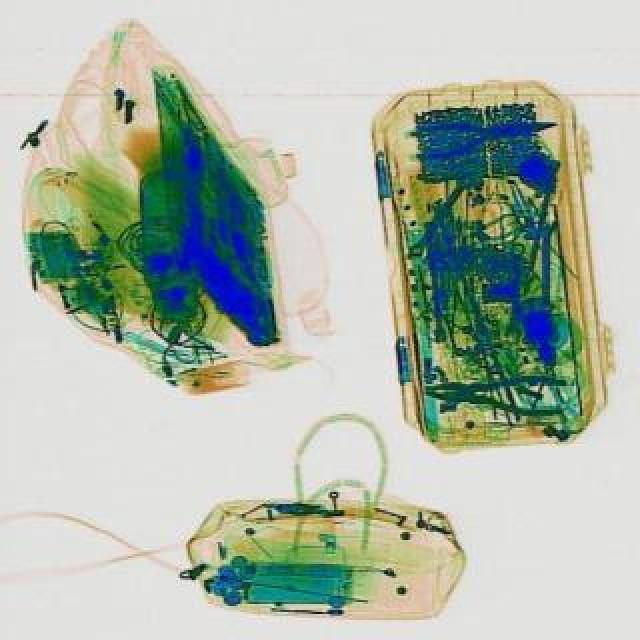scissors: (402, 170, 476, 260), (534, 218, 560, 314), (504, 242, 520, 338)
wrench: (404, 106, 558, 158), (422, 368, 566, 416)
